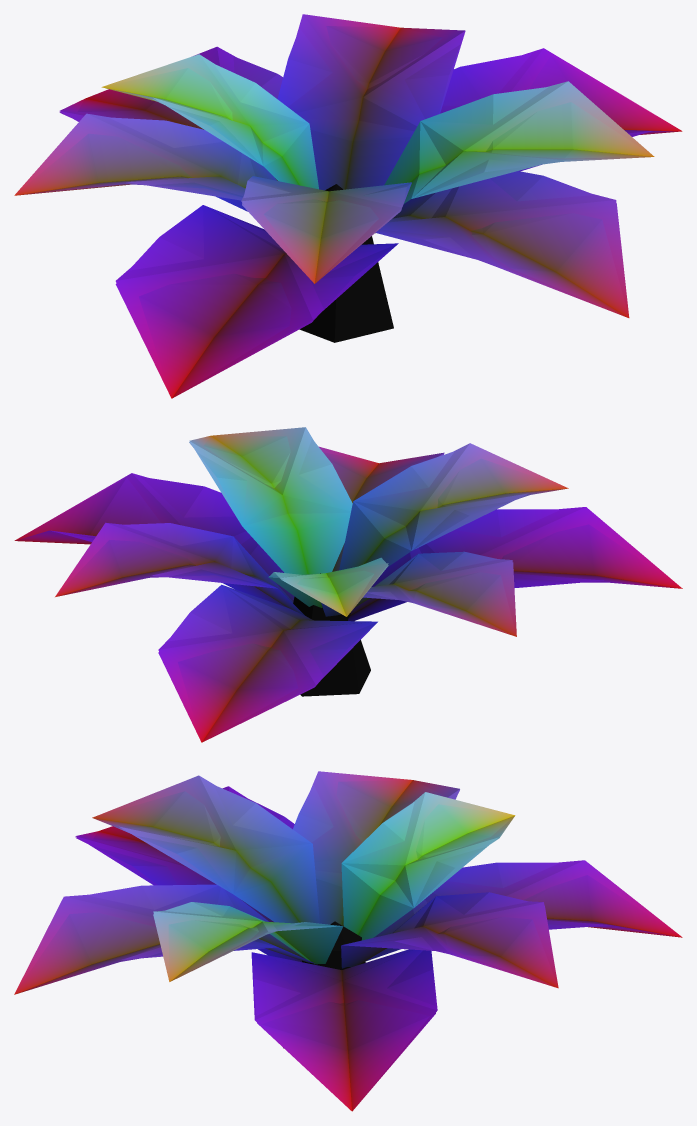
The model's file is bigleafplant_01_small_low.dae.
3 renders of one model, top to bottom at view 1: azimuth 30°, elevation 25°; view 2: azimuth 150°, elevation 25°; view 3: azimuth 270°, elevation 25°, orthographic. The views are drawn at different scales.
Visible parts, largest first — view 1: bigleafsb224, bigleafsb64; view 2: bigleafsb224, bigleafsb64; view 3: bigleafsb224, bigleafsb64.
Part boxes in pixels (x1,y1,x2,y2): bigleafsb224: (14, 26, 682, 398); bigleafsb64: (15, 14, 681, 397); bigleafsb224: (15, 435, 682, 742); bigleafsb64: (15, 427, 681, 741); bigleafsb224: (14, 780, 682, 1111); bigleafsb64: (15, 771, 681, 1106).
Size of what is drawn, in the model's own units: 1.95 by 1.95 by 0.604.
